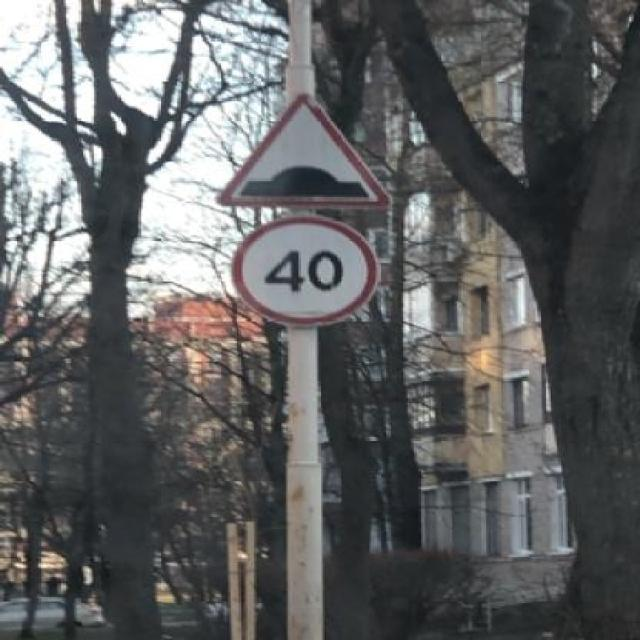forb_speed_over_40: (233, 218, 378, 329)
